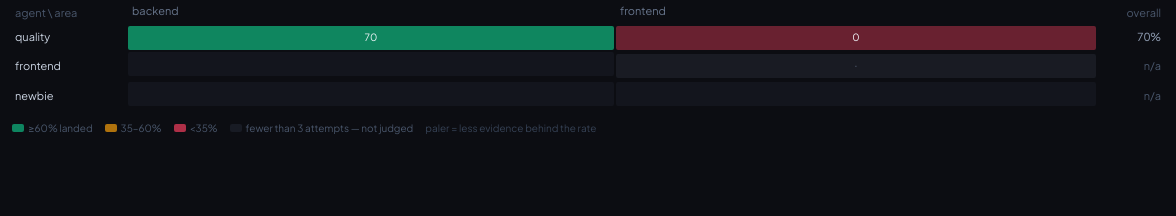
it: CompetenceHeatmap › warns in the drill-down when the sample is too small to conclude
This screenshot has width=1176, height=216.
Click the button "·". click: {"x": 856, "y": 66}
box: [616, 54, 1096, 78]
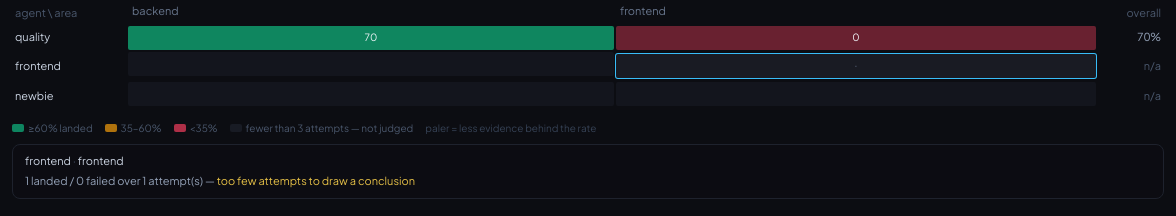
expect the text "too few attempts to draw a conclusion" is shown: met, box [217, 174, 415, 187]
